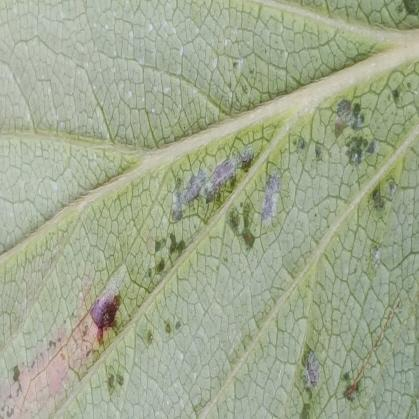Angular Leafspot: (0, 52, 418, 418)
